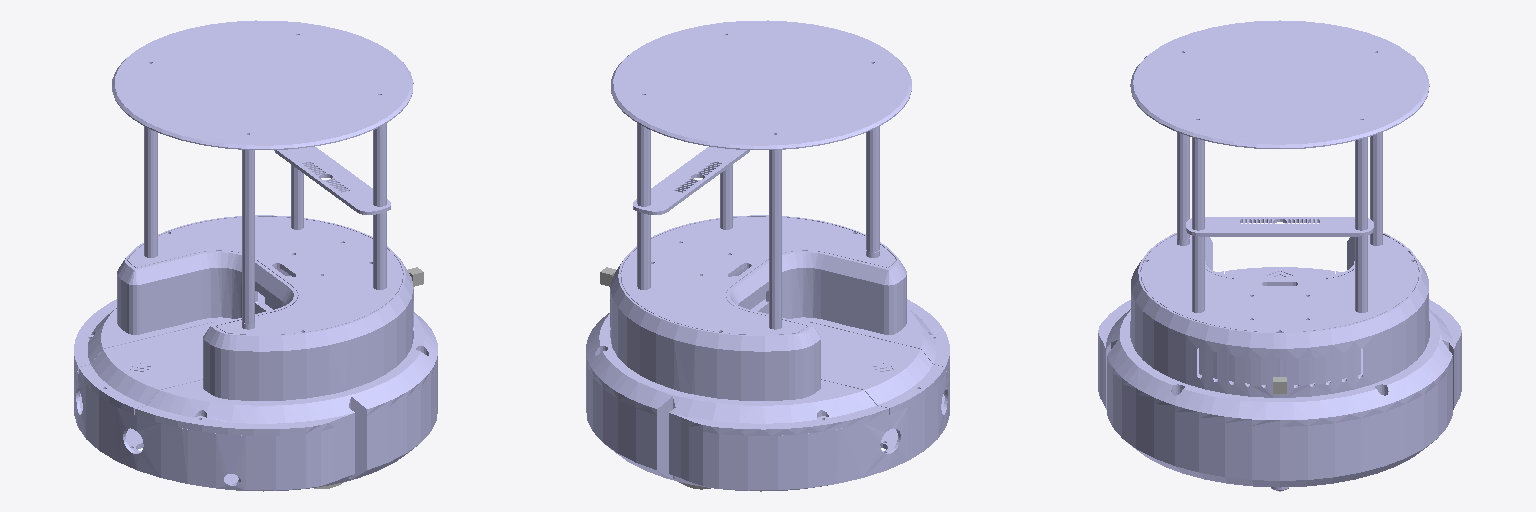
URDF robot description (titan):
<?xml version="1.0" encoding="utf-8"?>
<!-- This URDF was automatically created by SolidWorks to URDF Exporter! -->

<robot name="titan">

  <link name="base_footprint"/>

  <joint name="base_link_joint" type="fixed">
    <parent link="base_footprint"/>
    <child link="base_link"/>
    <origin xyz="0 0 0" rpy="0 0 3.14159265"/>
  </joint>


  <!-- ============================== BASE LINK ============================== -->
  <link name="base_link">

    <inertial>
      <origin xyz="-0.00346341261510518 0.000431167248793353 0.0900728026786845" rpy="0 0 0"/>
      <mass value="2.920547254934799"/>
      <inertia ixx="0.00396950657190701" ixy="3.24338418795685E-06" ixz="1.91406169796034E-05"
               iyy="0.00366159045993355" iyz="-1.43363832997866E-06" izz="0.00731329773396938"/>
    </inertial>

    <visual>
      <origin xyz="0 0 0" rpy="0 0 0"/>
      <geometry>
        <mesh filename="package://titan_nav/urdf/meshes/base_link.STL"/>
      </geometry>
      <material name="body">
        <color rgba="0.823529411764706 0.823529411764706 1 1"/>
      </material>
    </visual>

    <collision>
      <origin xyz="0 0 0" rpy="0 0 0"/>
      <geometry>
        <mesh filename="package://titan_nav/urdf/meshes/base_link.STL"/>
      </geometry>
    </collision>

  </link>


  <!-- ============================ LEFT WHEEL ============================ -->
  <link name="Left_Wheel_Link">

    <inertial>
      <origin xyz="1.8457E-10 0.0002899 3.6055E-10" rpy="0 0 0"/>
      <mass value="0.035175"/>
      <inertia ixx="1.5237E-05" ixy="-1.9322E-13" ixz="-4.4739E-10"
               iyy="2.5786E-05" iyz="-5.0197E-14" izz="1.5237E-05"/>
    </inertial>

    <visual>
      <origin xyz="0 0 0" rpy="0 1.57 1.57"/>
      <geometry>
        <!-- <mesh filename="package://titan_nav/urdf/meshes/Left_Wheel_Link.STL"/> -->
        <cylinder radius="0.034843" length="0.02"/>
      </geometry>
      <material name="l_wheel">
        <color rgba="0.75294 0.75294 0.75294 1"/>
      </material>
    </visual>

    <collision>
      <origin xyz="0 0 0" rpy="0 1.57 1.57"/>
      <geometry>
        <!-- <mesh filename="package://titan_nav/urdf/meshes/Left_Wheel_Link.STL"/> -->
        <cylinder radius="0.034843" length="0.02"/>
      </geometry>
    </collision>

  </link>
 

  <!-- ========================= LEFT WHEEL JOINT ========================= -->
  <joint name="Left_Wheel_Joint" type="continuous">
    <origin xyz="-0.0001 -0.09075 0.022" rpy="0 0 3.14159265"/>
    <parent link="base_link"/>
    <child link="Left_Wheel_Link"/>
    <axis xyz="0 1 0"/>
    <limit effort="2.5" velocity="22"/>
  </joint>

  <!-- ============================ RIGHT WHEEL ============================ -->
  <link name="Right_Wheel_Link">

    <inertial>
      <origin xyz="-4.6789E-09 -3.9895E-05 4.607E-09" rpy="0 0 0"/>
      <mass value="0.035175"/>
      <inertia ixx="1.5237E-05" ixy="-1.4328E-12" ixz="-4.4388E-10"
               iyy="2.5786E-05" iyz="1.1122E-12" izz="1.5237E-05"/>
    </inertial>

    <visual>
      <origin xyz="0 0 0" rpy="0 1.57 1.57"/>
      <geometry>
        <!-- <mesh filename="package://titan_nav/urdf/meshes/Right_Wheel_Link.STL"/> -->
        <cylinder radius="0.034843" length="0.02"/>
      </geometry>
      <material name="r_wheel">
        <color rgba="0.75294 0.75294 0.75294 1"/>
      </material>
    </visual>

    <collision>
      <origin xyz="0 0 0" rpy="0 1.57 1.57"/>
      <geometry>
        <!-- <mesh filename="package://titan_nav/urdf/meshes/Right_Wheel_Link.STL"/> -->
        <cylinder radius="0.034843" length="0.02"/>
      </geometry>
    </collision>

  </link>


  <!-- ======================== RIGHT WHEEL JOINT ======================== -->
  <joint name="Right_Wheel_Joint" type="continuous">
    <origin xyz="-0.0001 0.0905 0.022" rpy="0 0 3.14159265"/>
    <parent link="base_link"/>
    <child link="Right_Wheel_Link"/>
    <axis xyz="0 1 0"/>
    <limit effort="2.5" velocity="22"/>
  </joint>

  <!-- ============================ RGB CAMERA ============================ -->
  <link name="RGB_Camera_Link">

    <inertial>
      <origin xyz="-0.0078063 -3.8623E-06 -0.0010259" rpy="0 0 0"/>
      <mass value="0.01352"/>
      <inertia ixx="2.5544E-06" ixy="-3.5783E-12" ixz="1.7676E-07"
               iyy="1.5924E-06" iyz="1.8649E-10" izz="1.2081E-06"/>
    </inertial>

    <visual>
      <origin xyz="0 0 0" rpy="0 0 0"/>
      <geometry>
        <!-- <mesh filename="package://titan_nav/urdf/meshes/RGB_Camera_Link.STL"/> -->
          <box size="0.01 0.01 0.01"/>
      </geometry>
      <material name="cam">
        <color rgba="0.75294 0.75294 0.75294 1"/>
      </material>
    </visual>

    <collision>
      <origin xyz="0 0 0" rpy="0 0 0"/>
      <geometry>
        <!-- <mesh filename="package://titan_nav/urdf/meshes/RGB_Camera_Link.STL"/> -->
          <box size="0.01 0.01 0.01"/>
      </geometry>
    </collision>

  </link>
 

  <!-- ========================= RGB CAMERA JOINT ========================= -->
  <joint name="RGB_Camera_Joint" type="fixed">
    <origin xyz="-0.13025 0 0.088971" rpy="0 0 3.14159265"/>
    <parent link="base_link"/>
    <child link="RGB_Camera_Link"/>
    <axis xyz="0 0 0"/>
  </joint>

    <!-- ========================== DEPTH CAMERA ========================== -->
  <link name="Depth_Camera_Link">

    <inertial>
      <origin xyz="-0.010806 4.7404E-05 -0.00030365" rpy="0 0 0"/>
      <mass value="0.081395"/>
      <inertia ixx="6.286E-05" ixy="-1.3972E-08" ixz="6.8703E-08"
               iyy="5.5976E-06" iyz="2.1844E-08" izz="6.1887E-05"/>
    </inertial>

    <visual>
      <origin xyz="0 0 0" rpy="0 0 0"/>
      <geometry>
        <mesh filename="package://titan_nav/urdf/meshes/Depth_Camera_Link.STL"/>
      </geometry>
      <material name="dp_cam">
        <color rgba="0.82353 0.82353 1 1"/>
      </material>
    </visual>

    <collision>
      <origin xyz="0 0 0" rpy="0 0 0"/>
      <geometry>
        <mesh filename="package://titan_nav/urdf/meshes/Depth_Camera_Link.STL"/>
      </geometry>
    </collision>

  </link>
 
  <!-- ======================= DEPTH CAMERA JOINT ======================= -->
  <joint name="Depth_Camera_Joint" type="fixed">
    <origin xyz="-0.063825 0.00022394 0.20111" rpy="0 0 3.14159265"/>
    <parent link="base_link"/>
    <child link="Depth_Camera_Link"/>
    <axis xyz="0 0 0"/>
  </joint>

    <!-- =========================== FRONT CASTER =========================== -->
  <link name="Front_Caster_Link">

    <inertial>
      <origin xyz="0.00020286 -1.2503E-05 0.0041777" rpy="0 0 0"/>
      <mass value="0.0024002"/>
      <inertia ixx="8.6259E-08" ixy="-2.1714E-12" ixz="6.7243E-13"
               iyy="8.7002E-08" iyz="1.0021E-10" izz="1.0084E-07"/>
    </inertial>

    <visual>
      <origin xyz="0 0 0" rpy="0 0 0"/>
      <geometry>
        <mesh filename="package://titan_nav/urdf/meshes/Front_Caster_Link.STL"/>
      </geometry>
      <material name="f_caster">
        <color rgba="0.82353 0.82353 1 1"/>
      </material>
    </visual>

    <collision>
      <origin xyz="0 0 0" rpy="0 0 0"/>
      <geometry>
        <mesh filename="package://titan_nav/urdf/meshes/Front_Caster_Link.STL"/>
      </geometry>
    </collision>

  </link>


  <!-- ======================== FRONT CASTER JOINT ======================== -->
  <joint name="Front_Caster_Joint" type="fixed">
    <origin xyz="-0.099797 0 -0.005" rpy="0 0 3.14159265"/>
    <parent link="base_link"/>
    <child link="Front_Caster_Link"/>
    <axis xyz="0 0 0"/>
  </joint>

    <!-- ============================ REAR CASTER ============================ -->
  <link name="Rear_Caster_Link">

    <inertial>
      <origin xyz="-8.2468E-08 -0.00021544 0.0041777" rpy="0 0 0"/>
      <mass value="0.0024002"/>
      <inertia ixx="8.6259E-08" ixy="-2.1714E-12" ixz="6.7243E-13"
               iyy="8.7002E-08" iyz="1.0021E-10" izz="1.0084E-07"/>
    </inertial>

    <visual>
      <origin xyz="0 0 0" rpy="0 0 0"/>
      <geometry>
        <mesh filename="package://titan_nav/urdf/meshes/Rear_Caster_Link.STL"/>
      </geometry>
      <material name="r_caster">
        <color rgba="0.82353 0.82353 1 1"/>
      </material>
    </visual>

    <collision>
      <origin xyz="0 0 0" rpy="0 0 0"/>
      <geometry>
        <mesh filename="package://titan_nav/urdf/meshes/Rear_Caster_Link.STL"/>
      </geometry>
    </collision>

  </link>
 

  <!-- ========================= REAR CASTER JOINT ========================= -->
  <joint name="Rear_Caster_Joint" type="fixed">
    <origin xyz="0.1 -0.00020294 -0.005" rpy="0 0 3.14159265"/>
    <parent link="base_link"/>
    <child link="Rear_Caster_Link"/>
    <axis xyz="0 0 0"/>
  </joint>

    <!-- ============================== LIDAR ============================== -->
  <link name="Lidar_Link">

    <inertial>
      <origin xyz="-0.00056498 -1.4613E-05 -0.011701" rpy="0 0 0"/>
      <mass value="0.16538"/>
      <inertia ixx="7.8865E-05" ixy="4.8468E-08" ixz="2.1847E-06"
               iyy="7.519E-05" iyz="2.8859E-08" izz="0.00010995"/>
    </inertial>

    <visual>
      <origin xyz="0 0 0" rpy="0 0 0"/>
      <geometry>
        <mesh filename="package://titan_nav/urdf/meshes/Lidar_Link.STL"/>
      </geometry>
      <material name="lidar">
        <color rgba="0.82353 0.82353 1 1"/>
      </material>
    </visual>

    <collision>
      <origin xyz="0 0 0" rpy="0 0 0"/>
      <geometry>
        <mesh filename="package://titan_nav/urdf/meshes/Lidar_Link.STL"/>
      </geometry>
    </collision>

  </link>


  <!-- =========================== LIDAR JOINT =========================== -->
  <joint name="Lidar_Joint" type="fixed">
    <origin xyz="-0.065 0 0.15166" rpy="0 0 3.14159265"/>
    <parent link="base_link"/>
    <child link="Lidar_Link"/>
    <axis xyz="0 0 1"/>
    <limit effort="0.1" velocity="65"/>
  </joint>

  <gazebo>
        <plugin filename="gz-sim-sensors-system" name="gz::sim::systems::Sensors">
            <render_engine>ogre2</render_engine>
        </plugin>

        <plugin filename="gz-sim-joint-state-publisher-system" name="gz::sim::systems::JointStatePublisher">
        </plugin>

        <!-- ........................... DIFFERENTIAL DRIVE PLUGIN ................................... -->

        <plugin filename="gz-sim-diff-drive-system" name="gz::sim::systems::DiffDrive">
            <left_joint>Left_Wheel_Joint</left_joint>
            <right_joint>Right_Wheel_Joint</right_joint>
            <wheel_separation>0.18</wheel_separation>
            <wheel_radius>0.034843</wheel_radius>
            <odom_publish_frequency>30</odom_publish_frequency>
            <topic>/cmd_vel</topic>
            <odom_topic>/odom</odom_topic>
            <tf_topic>/tf</tf_topic>
            <frame_id>odom</frame_id>
            <child_frame_id>base_footprint</child_frame_id>
        </plugin>
  </gazebo>

  <gazebo reference="Lidar_Link">
    <sensor name="lidar" type="gpu_lidar">
      
      <pose>0 0 0 0 0 0</pose>
      <update_rate>5</update_rate>
      <visualize>true</visualize>

      <ignition_frame_id>Lidar_Link</ignition_frame_id>

      <lidar>
        <scan>
          <horizontal>
            <samples>120</samples>
            <resolution>1</resolution>
            <min_angle>-3.14159</min_angle>
            <max_angle>3.14159</max_angle>
          </horizontal>
        </scan>

        <range>
          <min>0.3</min>
          <max>15.0</max>
          <resolution>0.015</resolution>
        </range>

        <noise>
          <type>gaussian</type>
          <mean>0.0</mean>
          <stddev>0.001</stddev>
        </noise>
      </lidar>

    </sensor>
  </gazebo>

  <gazebo reference="Depth_Camera_Link">
            <sensor type="depth_camera" name="kinect_camera">
                <update_rate>30.0</update_rate>
                <topic>kinect_camera</topic>
                <ignition_frame_id>kinect_camera</ignition_frame_id>
                <camera_info_topic>kinect_camera/camera_info</camera_info_topic>
                <camera>
                    <horizontal_fov>1.57</horizontal_fov>
                    <image>
                        <width>640</width>
                        <height>480</height>
                        <format>R8G8B8</format>
                    </image>
                    <clip>
                        <near>0.05</near>
                        <far>8.0</far>
                    </clip>
                </camera>
            </sensor>
  </gazebo>

  <gazebo reference="RGB_Camera_Link">
            <sensor type="camera" name="right">
                <update_rate>10.0</update_rate>
                <always_on>true</always_on>
                <ignition_frame_id>stereo_camera_optical</ignition_frame_id>
                <pose>0 -0.12 0 0 0 0</pose>
                <topic>stereo_camera/right/image_raw</topic>
                <camera_info_topic>stereo_camera/right/camera_info</camera_info_topic>
                <horizontal_fov>1.3962634</horizontal_fov>
                <image>
                    <width>1024</width>
                    <height>1024</height>
                    <format>R8G8B8</format>
                </image>
                <clip>
                    <near>0.3</near>
                    <far>20</far>
                </clip>
            </sensor>

            <sensor type="camera" name="left">
                <topic>stereo_camera/left/image_raw</topic>
                <update_rate>10.0</update_rate>
                <always_on>true</always_on>
                <ignition_frame_id>stereo_camera_optical</ignition_frame_id>
                <camera_info_topic>stereo_camera/left/camera_info</camera_info_topic>
                <pose>0 0 0 0 0 0</pose>
                <horizontal_fov>1.3962634</horizontal_fov>
                <image>
                    <width>1024</width>
                    <height>1024</height>
                    <format>R8G8B8</format>
                </image>
                <clip>
                    <near>0.3</near>
                    <far>20</far>
                </clip>
            </sensor>
  </gazebo>




<!-- ================= Drive Wheels (same dark tire shade) =================

<gazebo reference="Right_Wheel_Link">
  <visual>
    <material>
      <ambient>0.10 0.10 0.10 1</ambient>
      <diffuse>0.10 0.10 0.10 1</diffuse>
      <specular>0.03 0.03 0.03 1</specular>
    </material>
  </visual>
</gazebo>

<gazebo reference="Left_Wheel_Link">
  <visual>
    <material>
      <ambient>0.10 0.10 0.10 1</ambient>
      <diffuse>0.10 0.10 0.10 1</diffuse>
      <specular>0.03 0.03 0.03 1</specular>
    </material>
  </visual>
</gazebo>



<gazebo reference="base_link">
  <visual>
    <material>
      <ambient>0.18 0.18 0.18 1</ambient>
      <diffuse>0.18 0.18 0.18 1</diffuse>
      <specular>0.06 0.06 0.06 1</specular>
    </material>
  </visual>
</gazebo>



<gazebo reference="Front_Caster_Link">
  <visual>
    <material>
      <ambient>0.22 0.22 0.22 1</ambient>
      <diffuse>0.22 0.22 0.22 1</diffuse>
      <specular>0.07 0.07 0.07 1</specular>
    </material>
  </visual>
  <collision>
    <surface>
      <friction>
        <ode>
          <mu>0.001</mu>
          <mu2>0.001</mu2>
        </ode>
      </friction>
    </surface>
  </collision>
</gazebo>

<gazebo reference="Rear_Caster_Link">
  <visual>
    <material>
      <ambient>0.22 0.22 0.22 1</ambient>
      <diffuse>0.22 0.22 0.22 1</diffuse>
      <specular>0.07 0.07 0.07 1</specular>
    </material>
  </visual>
  <collision>
    <surface>
      <friction>
        <ode>
          <mu>0.001</mu>
          <mu2>0.001</mu2>
        </ode>
      </friction>
    </surface>
  </collision>
</gazebo>



<gazebo reference="Depth_Camera_Link">
  <visual>
    <material>
      <ambient>0.30 0.30 0.30 1</ambient>
      <diffuse>0.30 0.30 0.30 1</diffuse>
      <specular>0.10 0.10 0.10 1</specular>
    </material>
  </visual>
</gazebo>

<gazebo reference="RGB_Camera_Link">
  <visual>
    <material>
      <ambient>0.32 0.32 0.32 1</ambient>
      <diffuse>0.32 0.32 0.32 1</diffuse>
      <specular>0.12 0.12 0.12 1</specular>
    </material>
  </visual>
</gazebo>

<gazebo reference="Lidar_Link">
  <visual>
    <material>
      <ambient>0.08 0.08 0.08 1</ambient>
      <diffuse>0.08 0.08 0.08 1</diffuse>
      <specular>0.02 0.02 0.02 1</specular>
    </material>
  </visual>
</gazebo>
 -->


</robot>

--- What the picture shows (computed from the rendered views, not written in the file) ---
3 views of the same robot in one strip: view 1: azimuth 30°, elevation 25°; view 2: azimuth 150°, elevation 25°; view 3: azimuth 270°, elevation 25° (orthographic).
Model titan with 9 links and 8 joints (2 continuous, 6 fixed), rooted at base_footprint, posed all joints at 0.
Links seen in each view (by area): view 1: base_link; view 2: base_link; view 3: base_link.
Boxes of the visible links, x1=… form: base_link: x1=74, y1=20, x2=437, y2=491; base_link: x1=586, y1=20, x2=949, y2=491; base_link: x1=1098, y1=20, x2=1461, y2=487.
Bounding box of the posed robot: 0.2753 × 0.2718 × 0.2909 m (x, y, z).
2 mesh visuals loaded from 5 distinct referenced files (2 binary STL); not drawn: 3 (reference not matched to a file when rendering).
